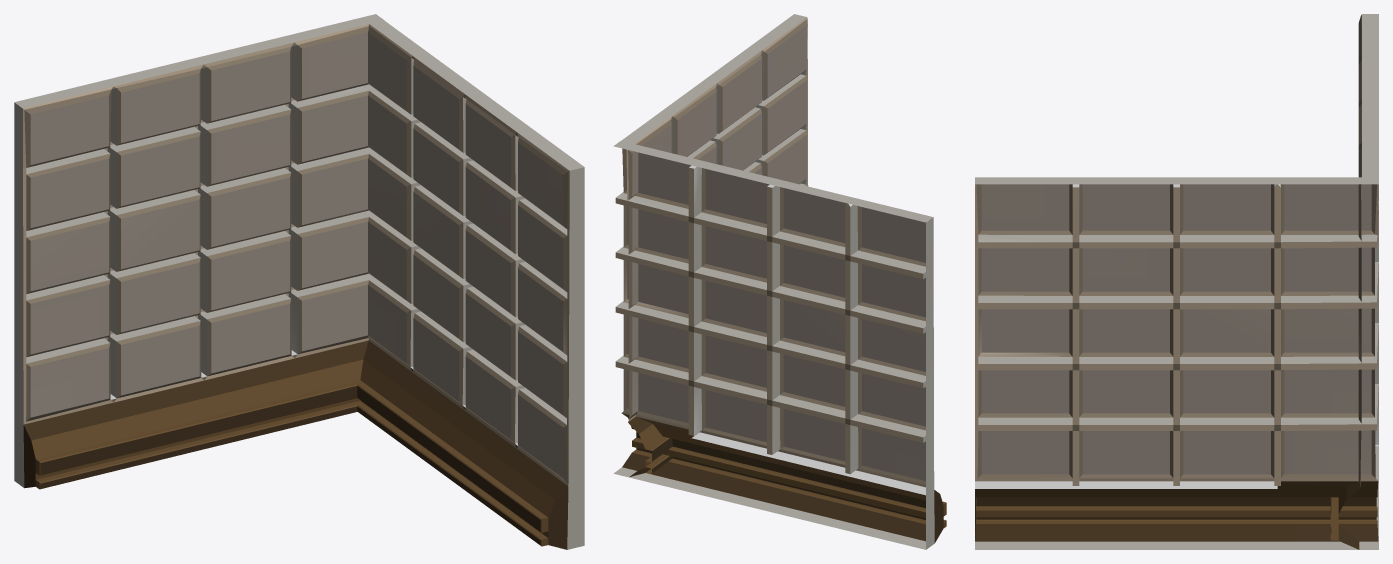
The model's file is paredeQuina_lab_LoPo.fbx.
3 views of the same model, side by side, from view 1: azimuth 30°, elevation 25°; view 2: azimuth 150°, elevation 25°; view 3: azimuth 270°, elevation 25° (orthographic). The views are drawn at different scales.
Parts seen in each view (by area): view 1: quinaNov_lab_LoPo; view 2: quinaNov_lab_LoPo; view 3: quinaNov_lab_LoPo.
Part boxes in pixels (x1=…): quinaNov_lab_LoPo: x1=14, y1=14, x2=584, y2=549; quinaNov_lab_LoPo: x1=613, y1=14, x2=946, y2=549; quinaNov_lab_LoPo: x1=975, y1=14, x2=1378, y2=549.
Size of the model in its own units: 200 by 200 by 200.
